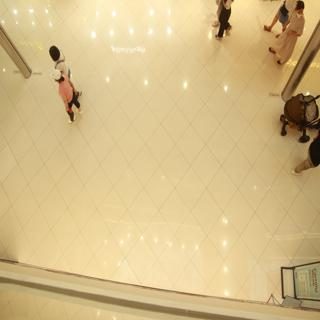person: (48, 65, 88, 127), (44, 39, 73, 72)
